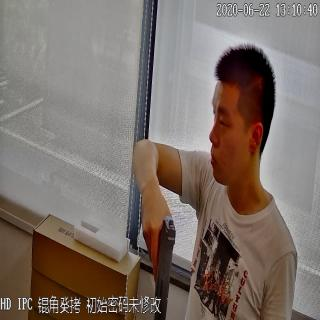gun: (140, 208, 179, 320)
